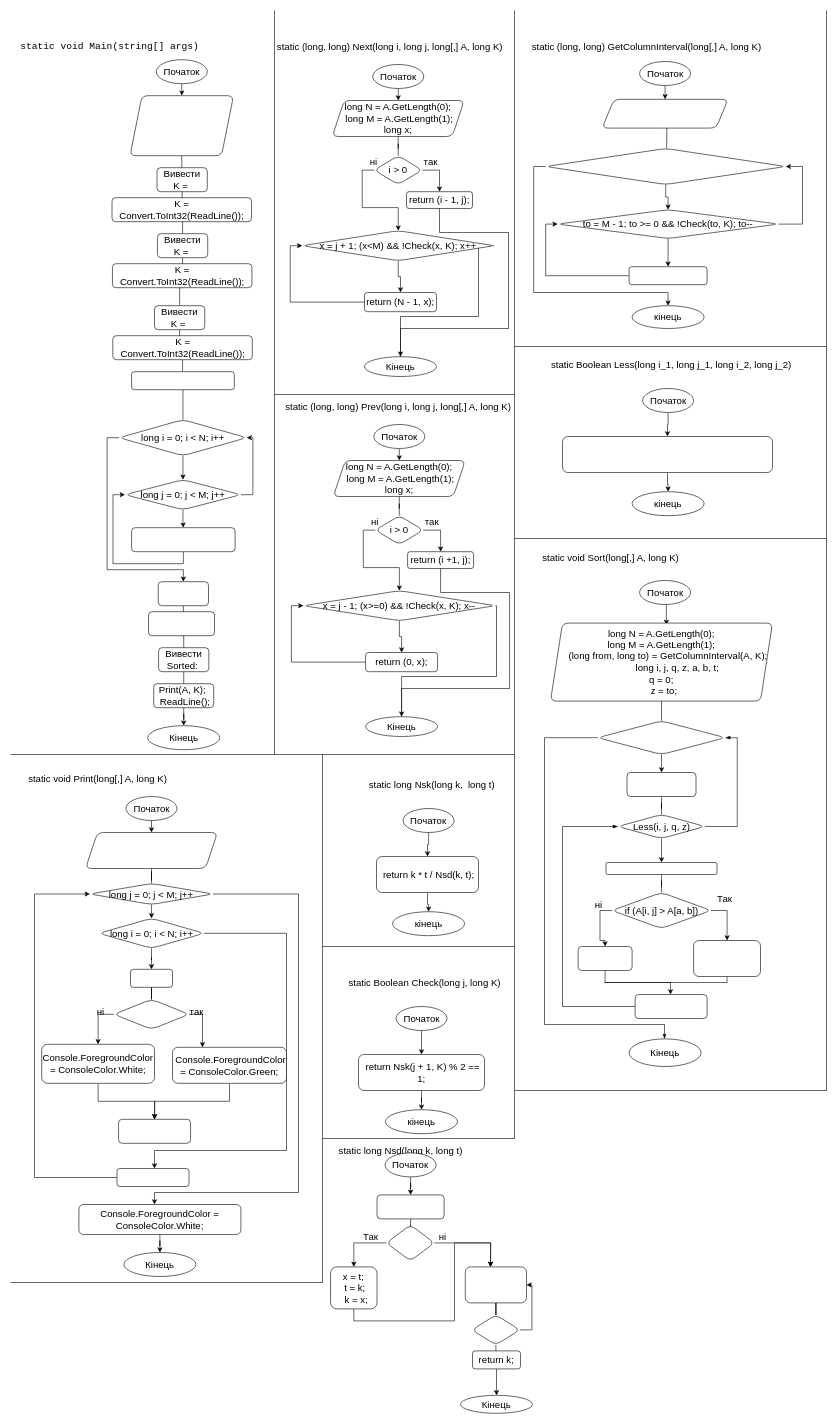
The diagram is 838 pixels wide and 1424 high, and some of its shapes have lost their labels. The centre of each missing label's shape, as x and y in pixels:
(a, b) = Next(i, j, A, K);: (x=661, y=868)
(q, z) = Prev(q, z, A, K);: (x=670, y=1006)
A = new long[N, M];: (x=182, y=380)
A[i, j] = rnd.Next(1, 1000);: (x=183, y=539)
Check(j, K): (x=151, y=1014)
from = 0; from < M && !Check(from, K); from++: (x=665, y=166)
i = a; j = b;: (x=605, y=958)
i = N - 1; j = from;: (x=661, y=784)
k < t: (x=410, y=1242)
Less(N - 1, from, q, z): (x=661, y=737)
long from, to; long M = A.GetLength(1);: (x=665, y=113)
long N = A.GetLength(0); long M = A.GetLength(1); long t;: (x=151, y=850)
long x;: (x=410, y=1206)
long[,] A; int N, M; long K, t; Random rnd = new Random();: (x=181, y=125)
Print(A, K); Sort(A, K);: (x=181, y=623)
return (from, to);: (x=667, y=275)
return (j_1 < j_2) || (j_1 == j_2 && i_1 > i_2);: (x=667, y=454)
t != 0: (x=495, y=1329)
t = A[i, j];: (x=151, y=978)
t = A[i, j]; A[i, j] = A[a, b]; A[a, b] = t;: (x=726, y=958)
Write(t + "\t");: (x=154, y=1131)
WriteLine();: (x=152, y=1177)
x = k % t; k = t; t = x;: (x=495, y=1284)
Вивести Created:: (x=183, y=593)
